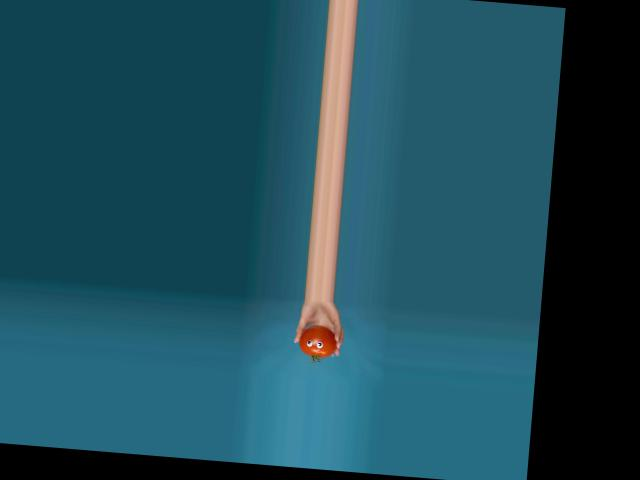tomato: (297, 323, 338, 358)
